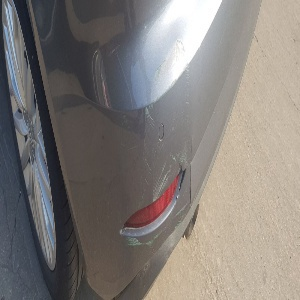bumper_scratch: (108, 98, 198, 238)
